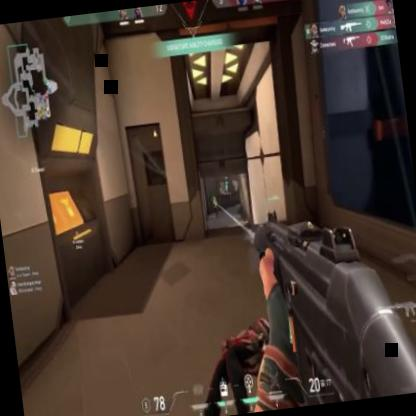enemy: (211, 196, 220, 218)
enemy_head: (213, 196, 216, 200)
